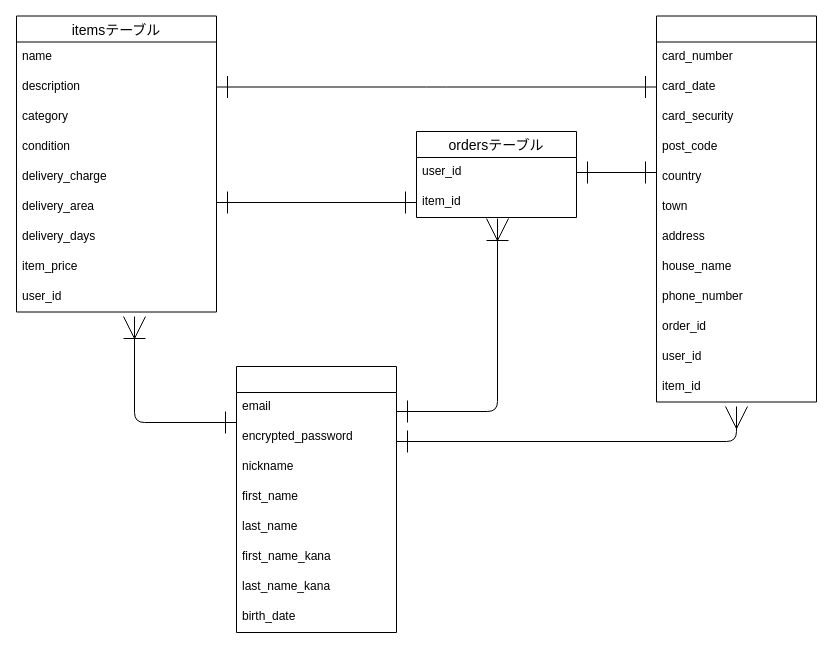
The diagram is 833 pixels wide and 649 high, and some of its shapes have lost their labels. Here are the shapes that lost their labels. From the top down, the box of each, then its label:
(656, 15, 816, 402): delivery
(236, 366, 396, 632): usersテーブル
